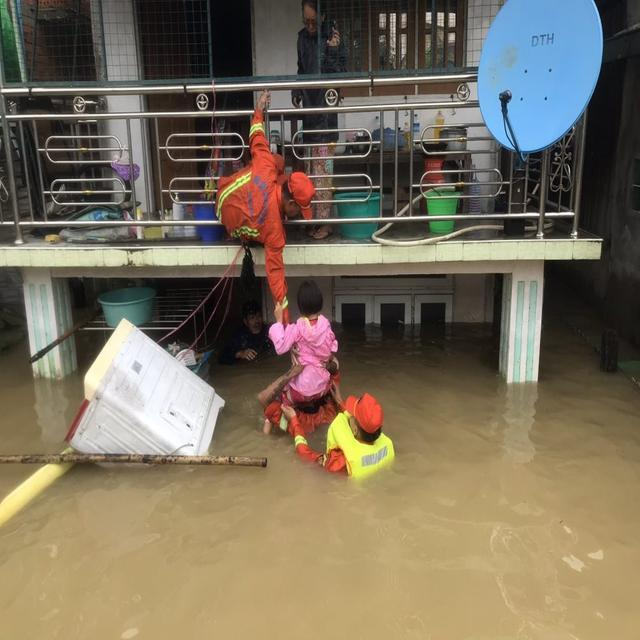Person-RiskLevel1: (215, 101, 320, 313)
Person-RiskLevel3: (263, 283, 341, 442), (272, 393, 408, 478)
